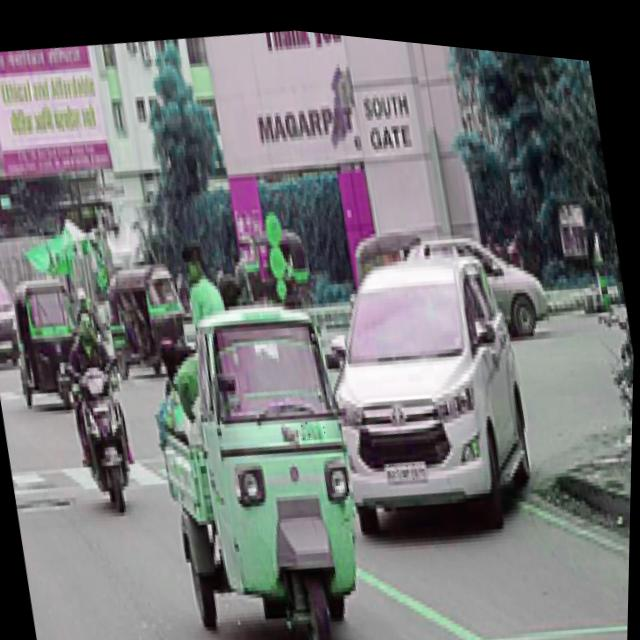license_plate: (388, 448, 428, 476), (300, 411, 329, 435)
